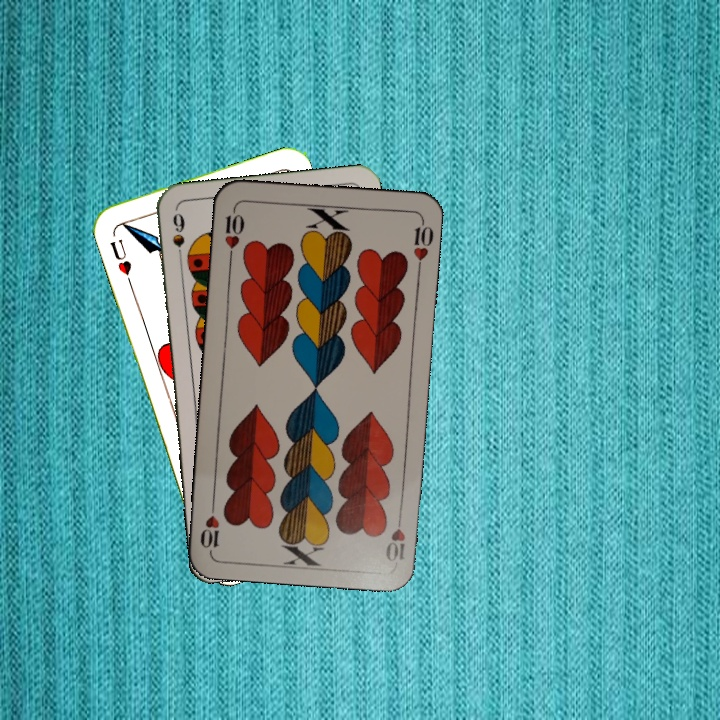H10: (220, 203, 247, 263), (381, 507, 408, 564)
HU: (106, 235, 134, 286)
S9: (168, 208, 187, 268)
